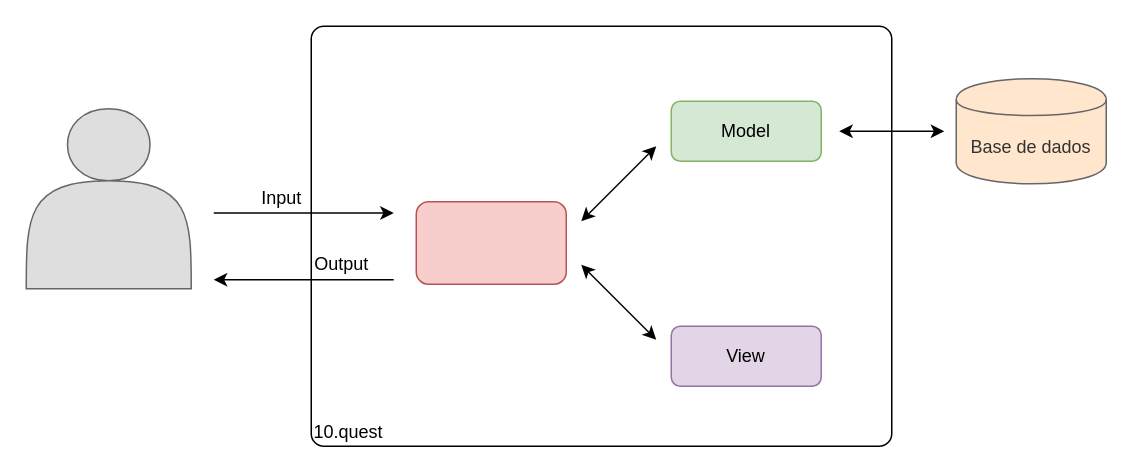
This 1133x473 diagram has some shape labels left out. Each missing label, with the centre of its shape:
"Controller" goes at pixel 490 242.
"Utilizador Final" goes at pixel 108 198.
